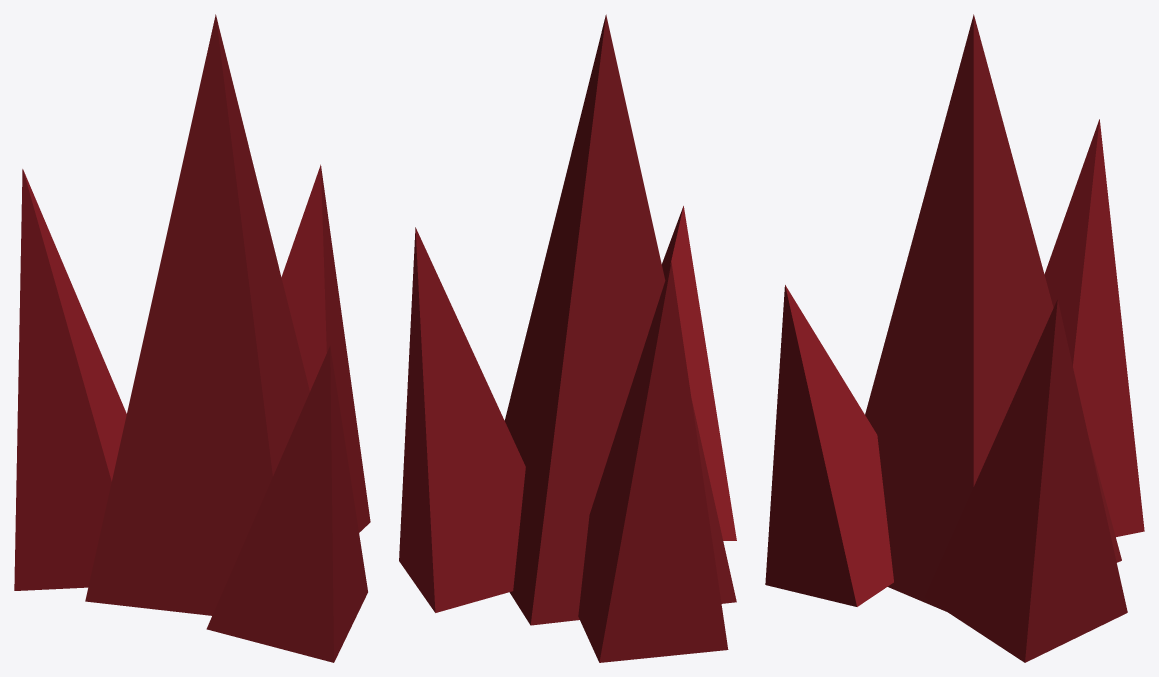
File: arena_braseiro_chama.fbx
3 views of the same model, side by side, from view 1: azimuth 30°, elevation 25°; view 2: azimuth 150°, elevation 25°; view 3: azimuth 270°, elevation 25° (orthographic).
Parts seen in each view (by area): view 1: arena_braseiro_chama; view 2: arena_braseiro_chama; view 3: arena_braseiro_chama.
Boxes of the visible parts, <box> form: arena_braseiro_chama: <box>14,14,370,662</box>; arena_braseiro_chama: <box>399,14,736,662</box>; arena_braseiro_chama: <box>765,14,1144,662</box>.
Size of the model in its own units: 1.48 by 2.38 by 1.45.
